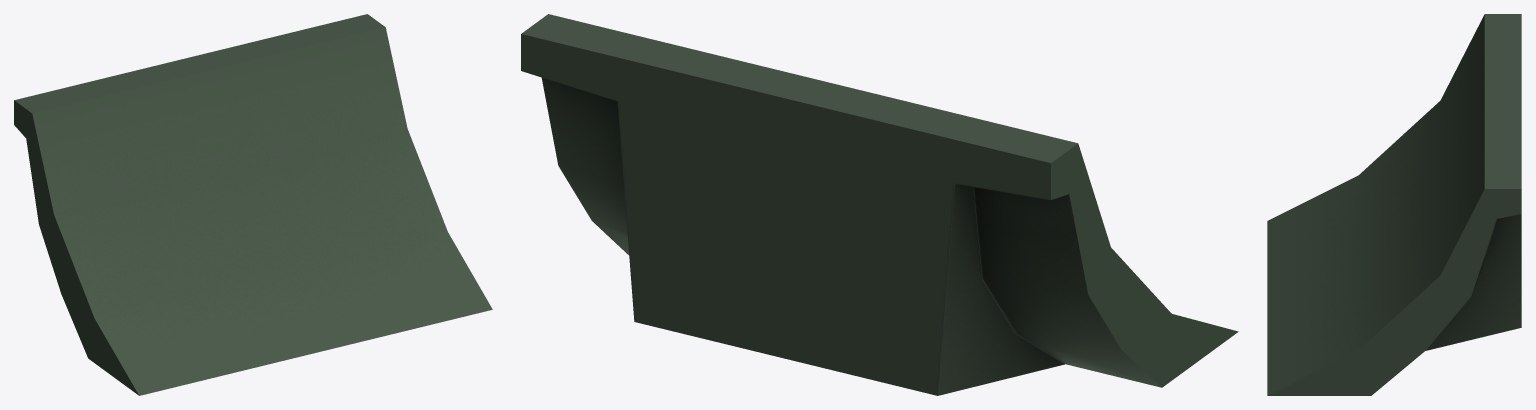
File: decoPlow.fbx
3 views of the same model, side by side, from view 1: azimuth 30°, elevation 25°; view 2: azimuth 150°, elevation 25°; view 3: azimuth 270°, elevation 25° (orthographic). The views are drawn at different scales.
Parts seen in each view (by area): view 1: decoPlow; view 2: decoPlow; view 3: decoPlow.
Boxes of the visible parts, x1=… form: decoPlow: x1=14, y1=14, x2=492, y2=395; decoPlow: x1=521, y1=14, x2=1238, y2=395; decoPlow: x1=1267, y1=14, x2=1521, y2=395.
Size of the model in its own units: 1.99 by 1.1 by 1.22.
